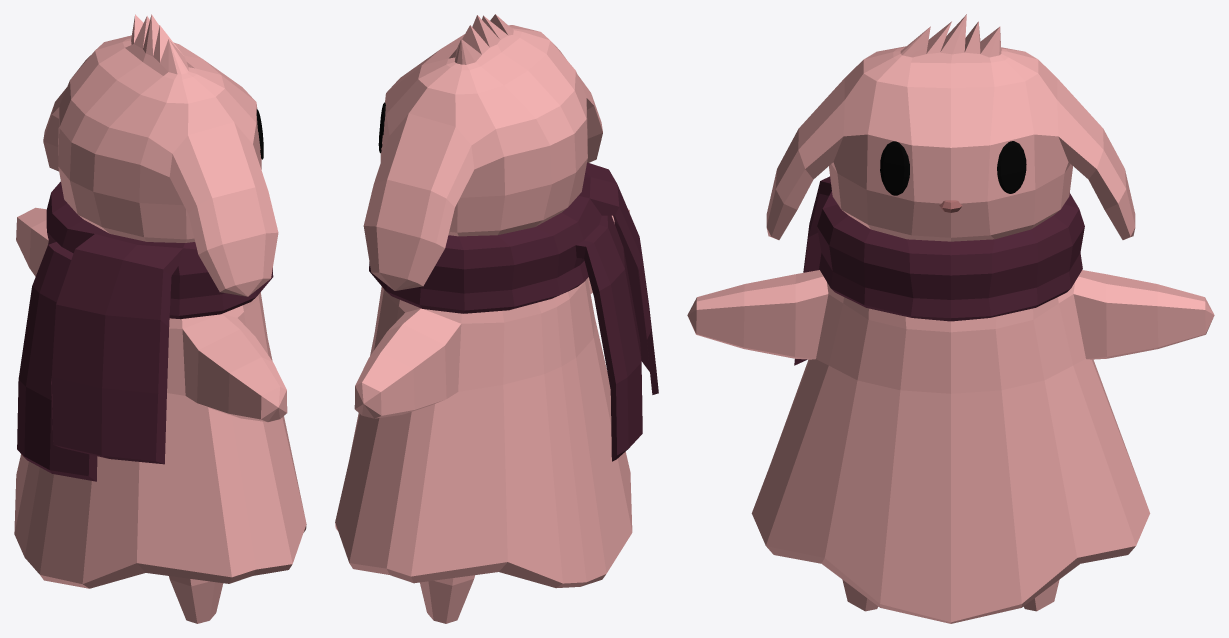
File: bunny_updated_fixedNorms.fbx
3 views of the same model, side by side, from view 1: azimuth 30°, elevation 25°; view 2: azimuth 150°, elevation 25°; view 3: azimuth 270°, elevation 25° (orthographic). The views are drawn at different scales.
Visible parts, largest first — view 1: Sphere.001; view 2: Sphere.001; view 3: Sphere.001.
Part boxes in pixels (x1,y1,x2,y2): Sphere.001: (14, 14, 306, 623); Sphere.001: (335, 14, 658, 623); Sphere.001: (687, 14, 1214, 623).
Size of the model in its own units: 132 by 277 by 223.
1 material, 1 textured.
